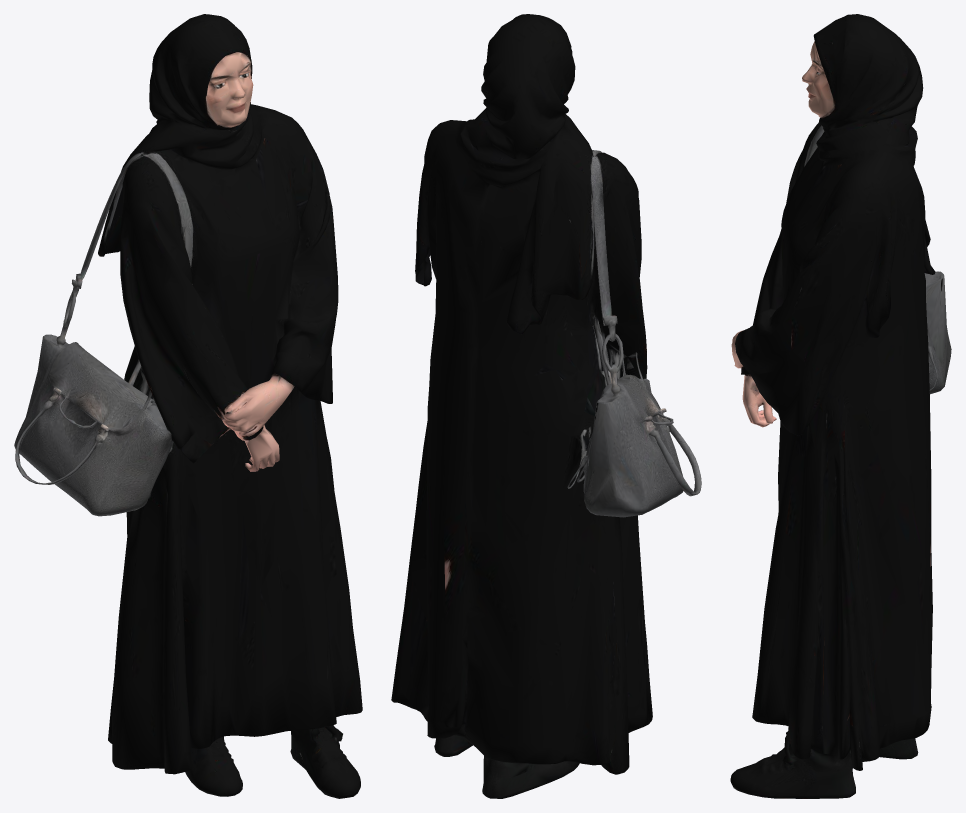
File: gcc-woman-3-near.glb
3 renders of one model, left to right at view 1: azimuth 30°, elevation 25°; view 2: azimuth 150°, elevation 25°; view 3: azimuth 270°, elevation 25°, orthographic. The views are drawn at different scales.
Parts seen in each view (by area): view 1: Mesh_0; view 2: Mesh_0; view 3: Mesh_0.
Part boxes in pixels (x1=…): Mesh_0: x1=14, y1=14, x2=362, y2=798; Mesh_0: x1=391, y1=14, x2=701, y2=798; Mesh_0: x1=730, y1=14, x2=951, y2=798.
Size of the model in its own units: 0.8234 by 1.9 by 0.5186.
Materials: 1 (1 with a texture image).
